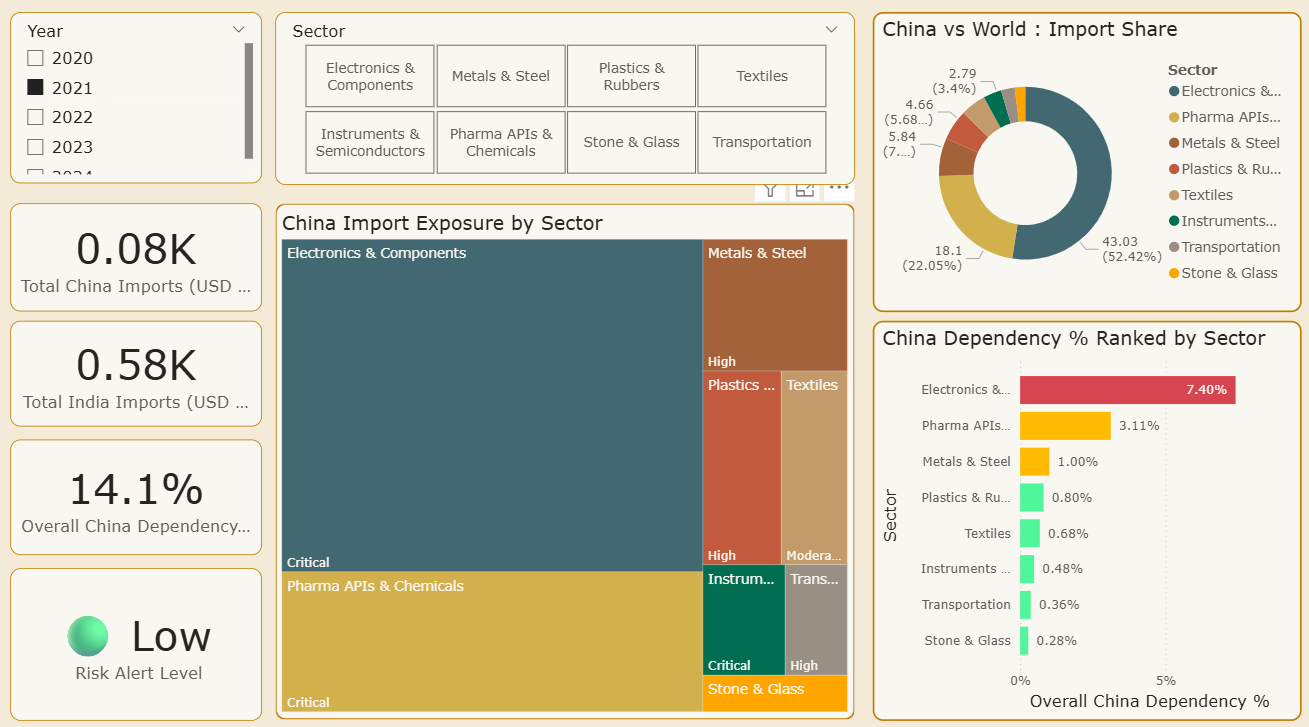

What the dashboard file says about the page in this screenshot:
{"tool":"powerbi","page":{"name":"National Risk Overview","canvas":[1280,720],"ordinal":0},"visuals":[{"type":"card","fields":{"Values":["Sector_Import_Data.Total China Import Value"]},"box":[11.4,201.4,245.7,105.7],"z":0},{"type":"card","fields":{"Values":["Sector_Import_Data.Total India Import Value"]},"box":[11.4,315.7,245.7,102.9],"z":1000},{"type":"card","fields":{"Values":["Sector_Import_Data.Overall China Dependency %"]},"box":[11.4,431.4,245.7,112.9],"z":2000},{"type":"treemap","title":"China Import Exposure by Sector","fields":{"Group":["Sector_Import_Data.Sector"],"Values":["Sector_Import_Data.Total China Import Value"],"Details":["Risk_Score_Table.Risk_Category"]},"box":[270,201.4,565.7,504.3],"z":3000},{"type":"slicer","fields":{"Values":["Sector_Import_Data.Year"]},"box":[11,14.7,245.8,167.5],"z":4000},{"type":"card","fields":{"Values":["Sector_Import_Data.Risk Alert"]},"box":[11.4,557.1,245.7,148.6],"z":5000},{"type":"clusteredBarChart","title":"China Dependency % Ranked by Sector","fields":{"Category":["Sector_Import_Data.Sector"],"Y":["Sector_Import_Data.Overall China Dependency %"]},"box":[852.9,315.7,418.6,390],"z":6000},{"type":"slicer","fields":{"Values":["Sector_Import_Data.Sector"]},"box":[270,14.3,565.7,168.6],"z":7000},{"type":"donutChart","title":"China vs World : Import Share","fields":{"Y":["Sum(Sector_Import_Data.China_Import_USD_Bn)"],"Category":["Sector_Import_Data.Sector"]},"box":[852.9,14.3,418.6,292.9],"z":8000},{"type":"FlowVisual_C29F1DCC_81F5_4973_94AD_0517D44CC06A","box":[100,100,12.9,12.9],"z":8001}]}

Visuals, with their boxes in screenshot pixels (x1, y1, x2, y2), scaled from the page's 1280x720 canvas onto the 1309x727 screenshot:
card - Sector_Import_Data.Total China Import Value: box=[12, 203, 263, 310]
card - Sector_Import_Data.Total India Import Value: box=[12, 319, 263, 423]
card - Sector_Import_Data.Overall China Dependency %: box=[12, 436, 263, 550]
"China Import Exposure by Sector" treemap: box=[276, 203, 855, 713]
slicer - Sector_Import_Data.Year: box=[11, 15, 263, 184]
card - Sector_Import_Data.Risk Alert: box=[12, 563, 263, 713]
"China Dependency % Ranked by Sector" clusteredBarChart: box=[872, 319, 1300, 713]
slicer - Sector_Import_Data.Sector: box=[276, 14, 855, 185]
"China vs World : Import Share" donutChart: box=[872, 14, 1300, 310]
FlowVisual_C29F1DCC_81F5_4973_94AD_0517D44CC06A: box=[102, 101, 115, 114]
